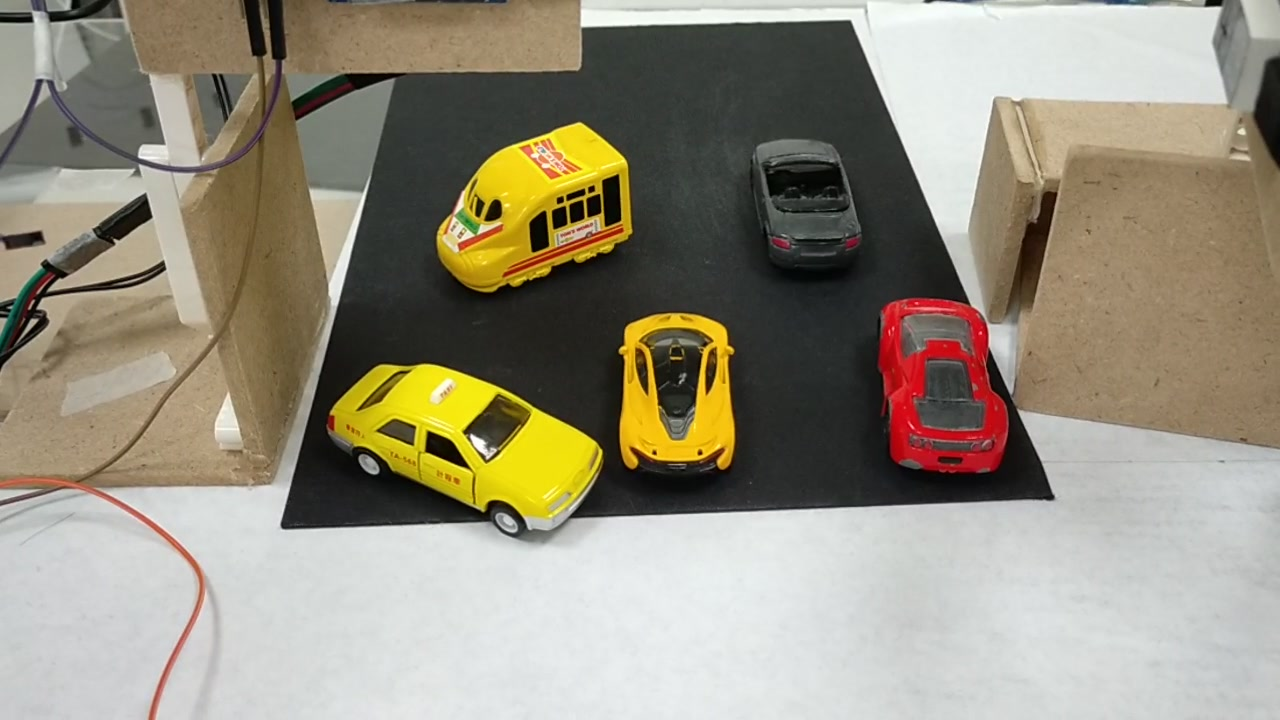car: (339, 363, 601, 547), (875, 295, 1012, 481), (621, 315, 733, 480), (753, 141, 860, 267)
